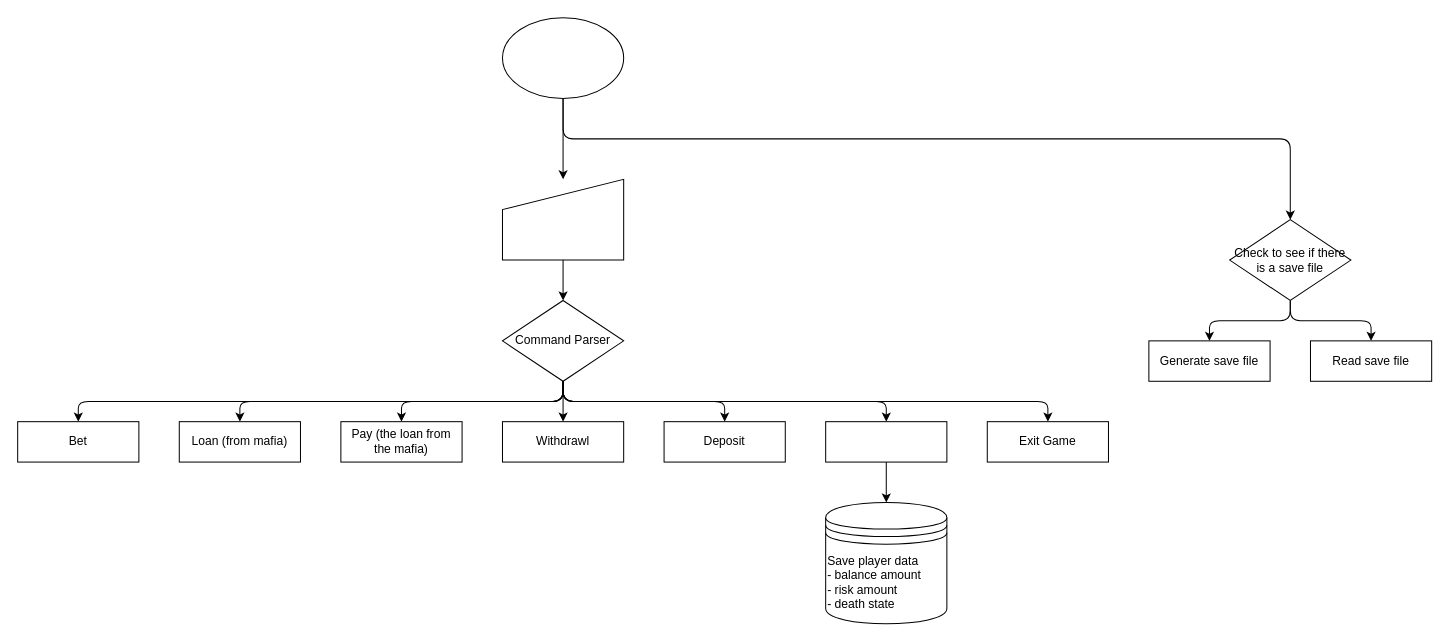
This 1449x641 diagram has some shape labels left out. Here are the shapes that lost their labels. From the top down, the box of each, then its label:
(501, 17, 624, 98): Start Program
(501, 178, 624, 260): Command from player
(825, 421, 947, 462): Save Game
